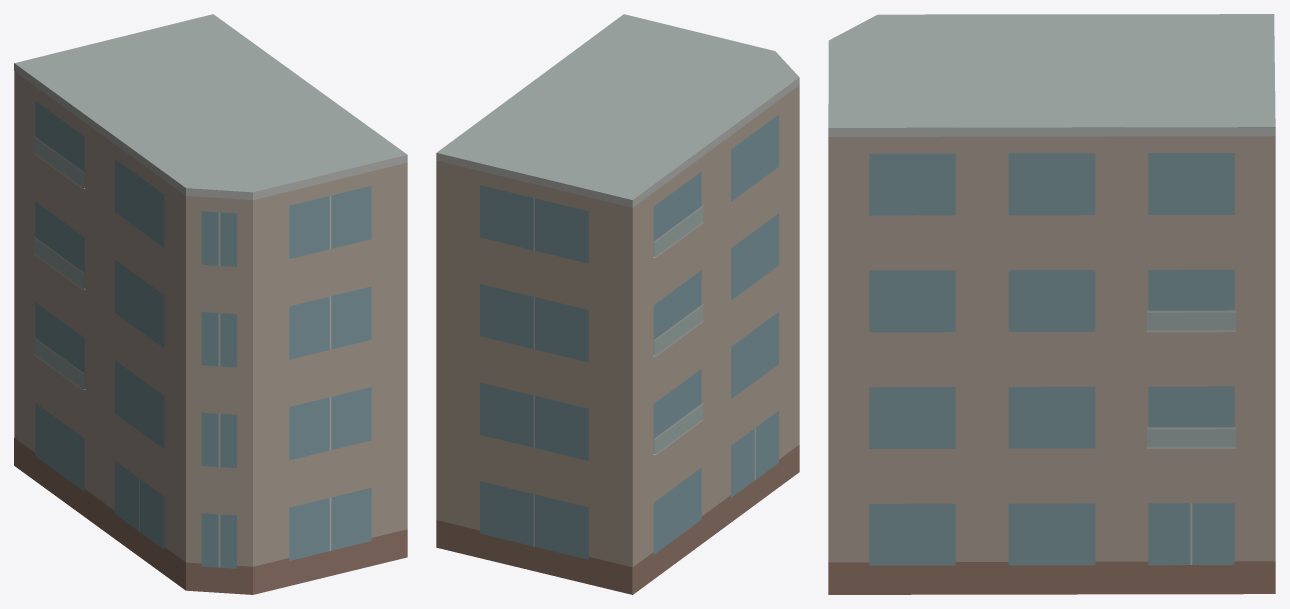
The model's file is survey-upis-32720767.glb.
The picture shows the model from 3 angles, left to right: view 1: azimuth 30°, elevation 25°; view 2: azimuth 150°, elevation 25°; view 3: azimuth 270°, elevation 25°; orthographic projection. The views are drawn at different scales.
Parts seen in each view (by area): view 1: survey-upis-32720767.tmp; view 2: survey-upis-32720767.tmp; view 3: survey-upis-32720767.tmp.
Part boxes in pixels (x1,y1,x2,y2): survey-upis-32720767.tmp: (14, 14, 407, 594); survey-upis-32720767.tmp: (436, 14, 799, 594); survey-upis-32720767.tmp: (828, 14, 1275, 594).
Bounding box in the file's own units: 6.58 × 12.5 × 10.86.
